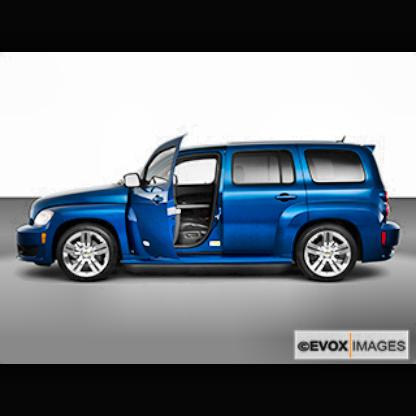Chevrolet HHR SS 2010: (17, 133, 404, 287)
